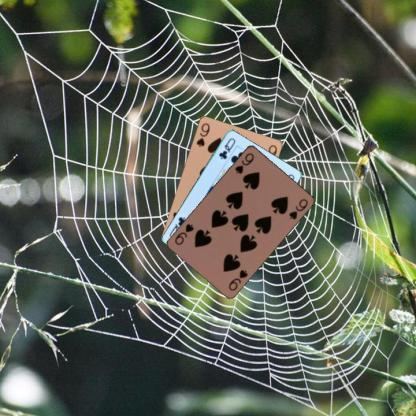9s: (233, 150, 256, 175), (226, 267, 249, 292), (193, 120, 211, 148)
Qc: (216, 135, 237, 160)
